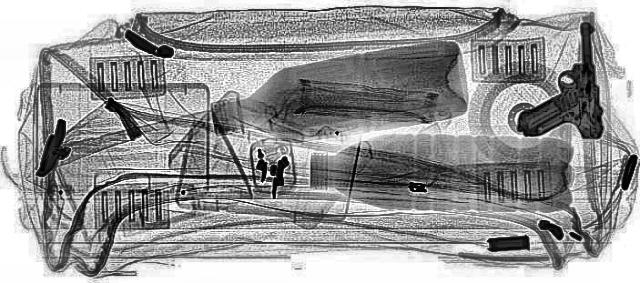Gun: (521, 21, 605, 135)
